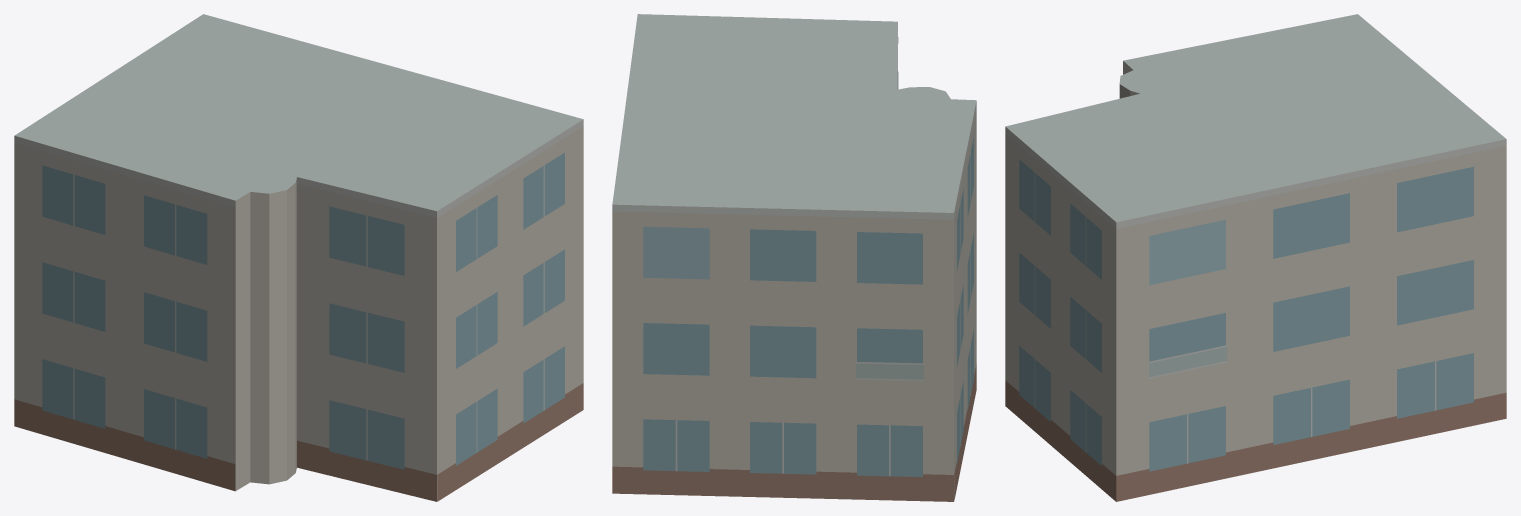
The model's file is survey-upis-32840618.glb.
3 renders of one model, left to right at view 1: azimuth 30°, elevation 25°; view 2: azimuth 150°, elevation 25°; view 3: azimuth 270°, elevation 25°, orthographic. The views are drawn at different scales.
Visible parts, largest first — view 1: survey-upis-32840618.tmp; view 2: survey-upis-32840618.tmp; view 3: survey-upis-32840618.tmp.
Boxes of the visible parts, box(x1,y1,x2,y2) form: survey-upis-32840618.tmp: box(14, 14, 583, 501); survey-upis-32840618.tmp: box(612, 14, 976, 501); survey-upis-32840618.tmp: box(1005, 14, 1506, 501).
Bounding box in the file's own units: 16.63 × 10.4 × 16.91.
